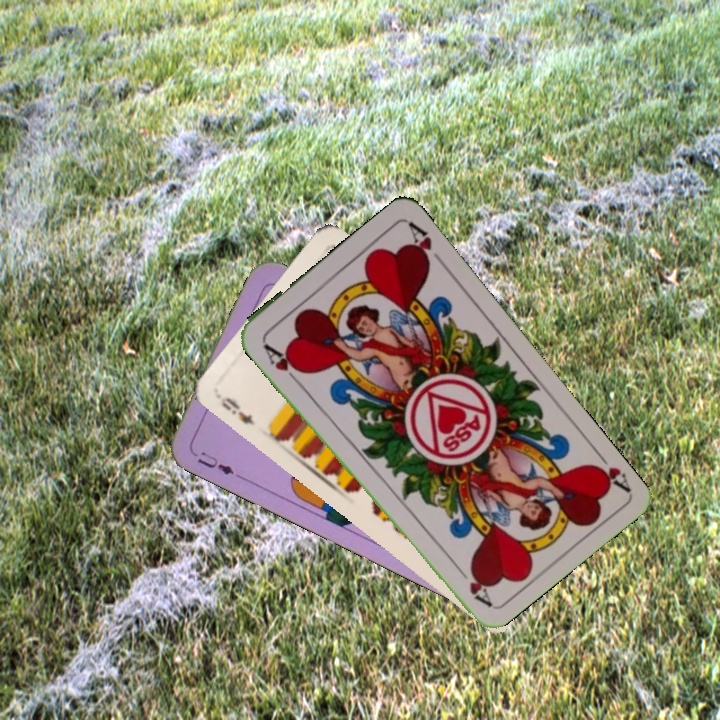E9: (214, 391, 258, 428)
EU: (188, 447, 243, 479)
HA: (585, 444, 633, 494), (259, 337, 305, 386)
